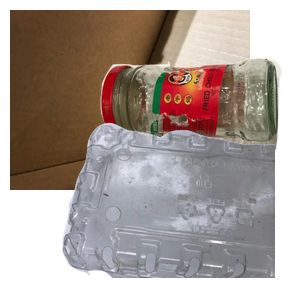cardboard: (10, 10, 250, 190)
glass: (98, 56, 300, 201)
plastic: (60, 120, 300, 300)
trash: (95, 157, 282, 300)
